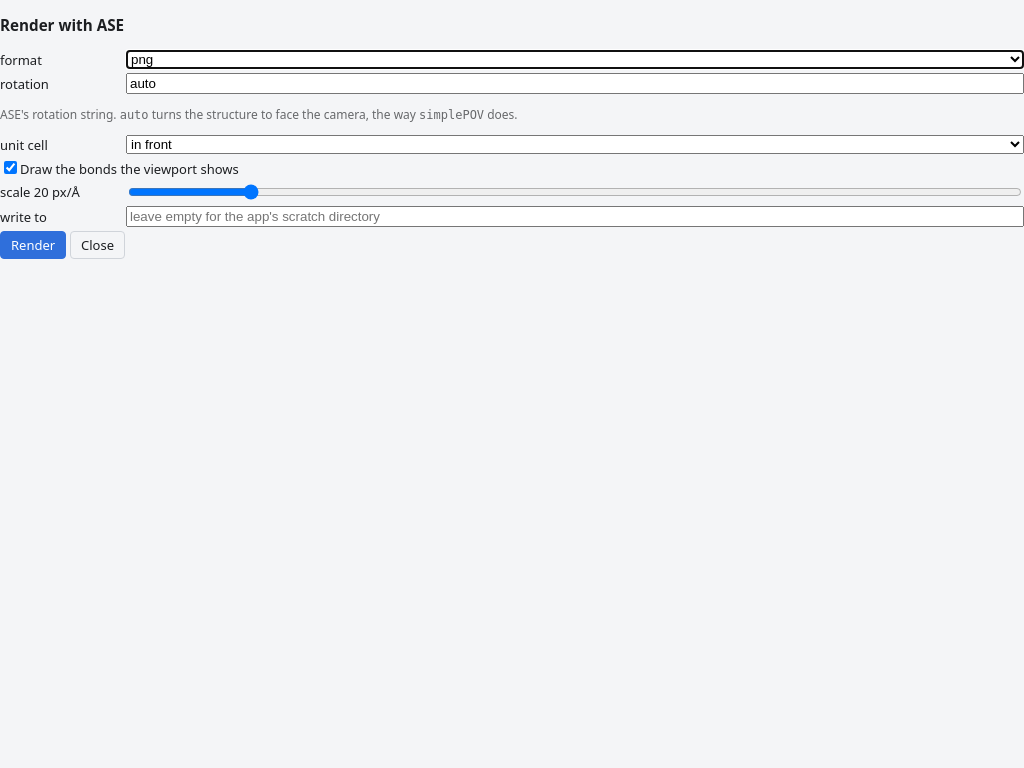
ExportAseImageDialog › offers the POV-Ray parameters only for POV-Ray
Expected: the field labelled "camera distance" is not shown
Select "pov" in the dropdown labelled "format" at (575, 60), box [126,50,1023,69]
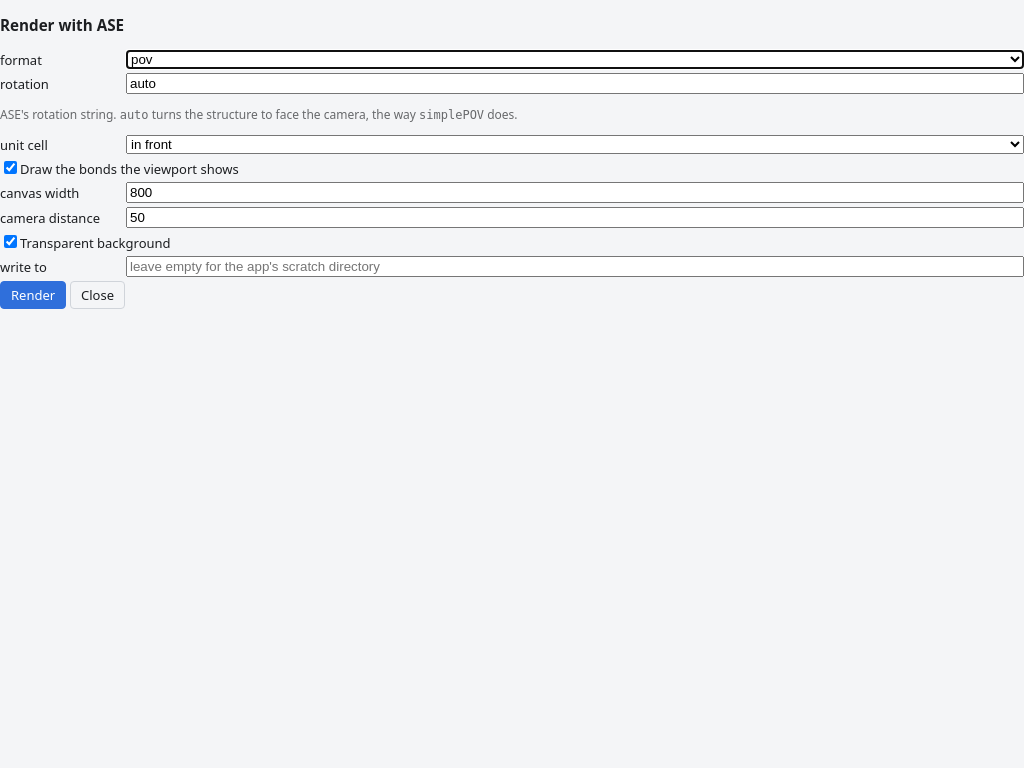
Expected: the number field labelled "camera distance" is shown, [126,207,1023,228]
Expected: the number field labelled "canvas width" is shown, [126,182,1023,203]
Expected: the label labelled "scale" is gone
